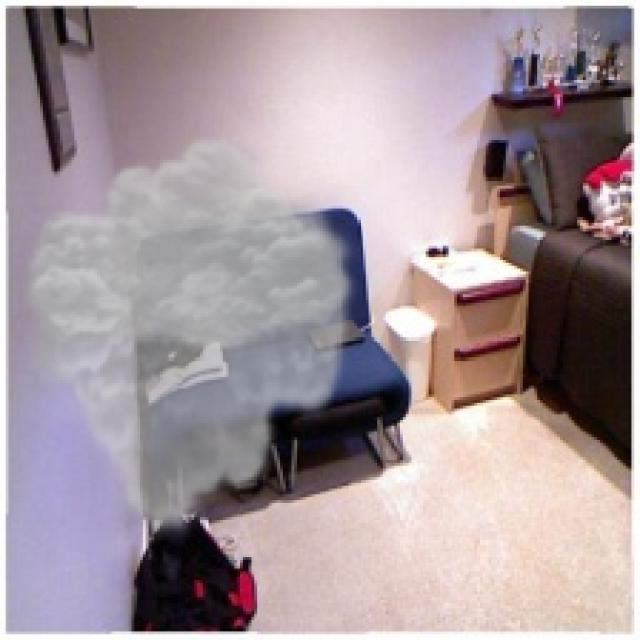smoke: (14, 131, 363, 540)
